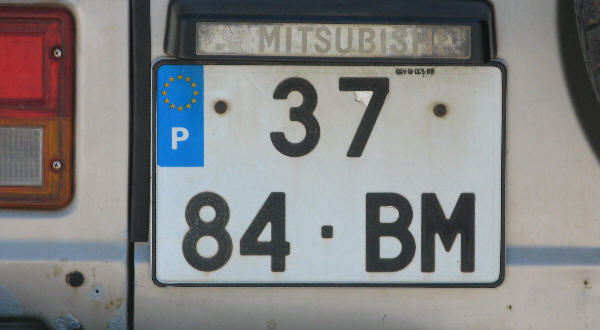license_plate: (150, 58, 506, 289)
